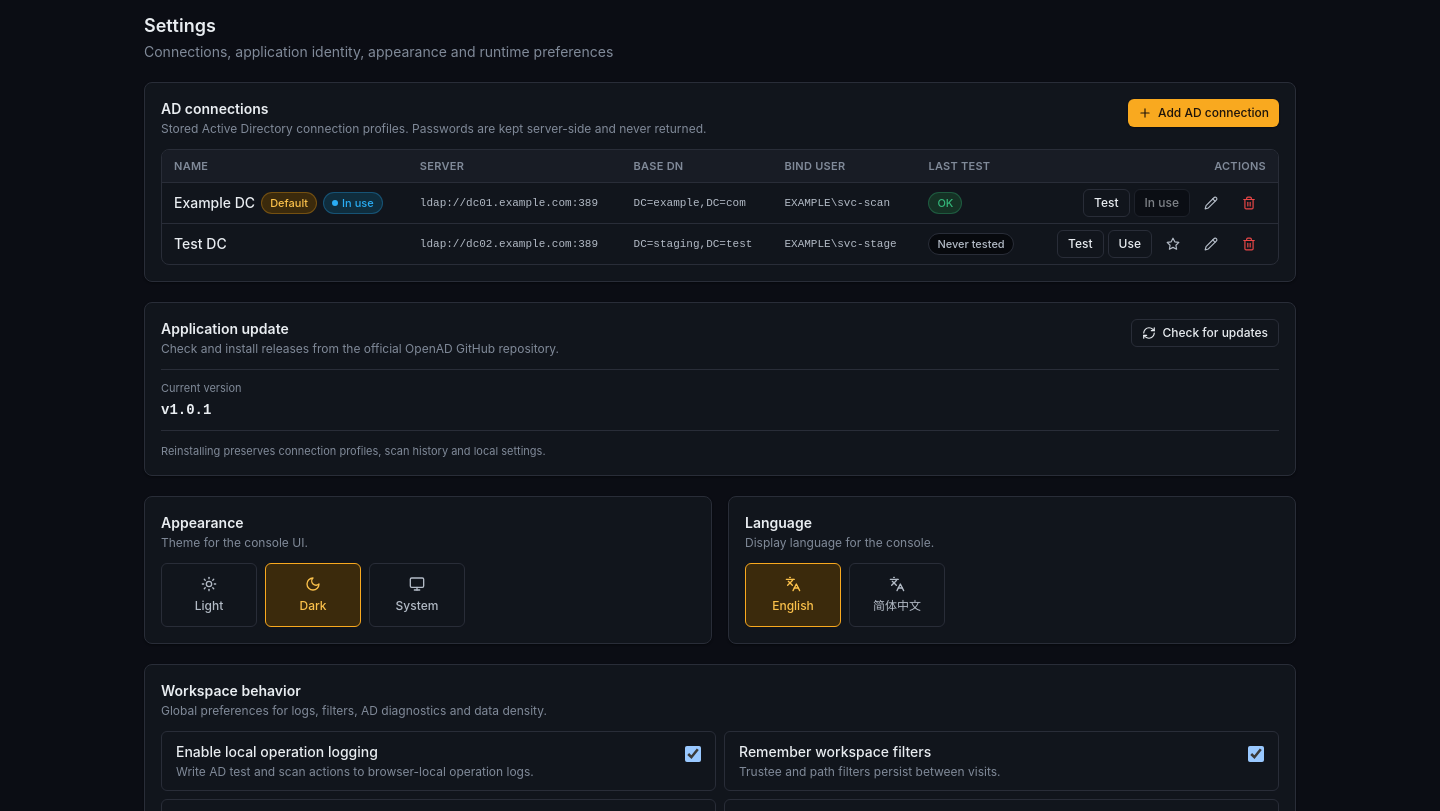
Test: SettingsPage › opens the release page when running outside the desktop host
The image size is (1440, 811).
Click the button "Check for updates" at (1205, 332), box 1131,318 -> 1279,346
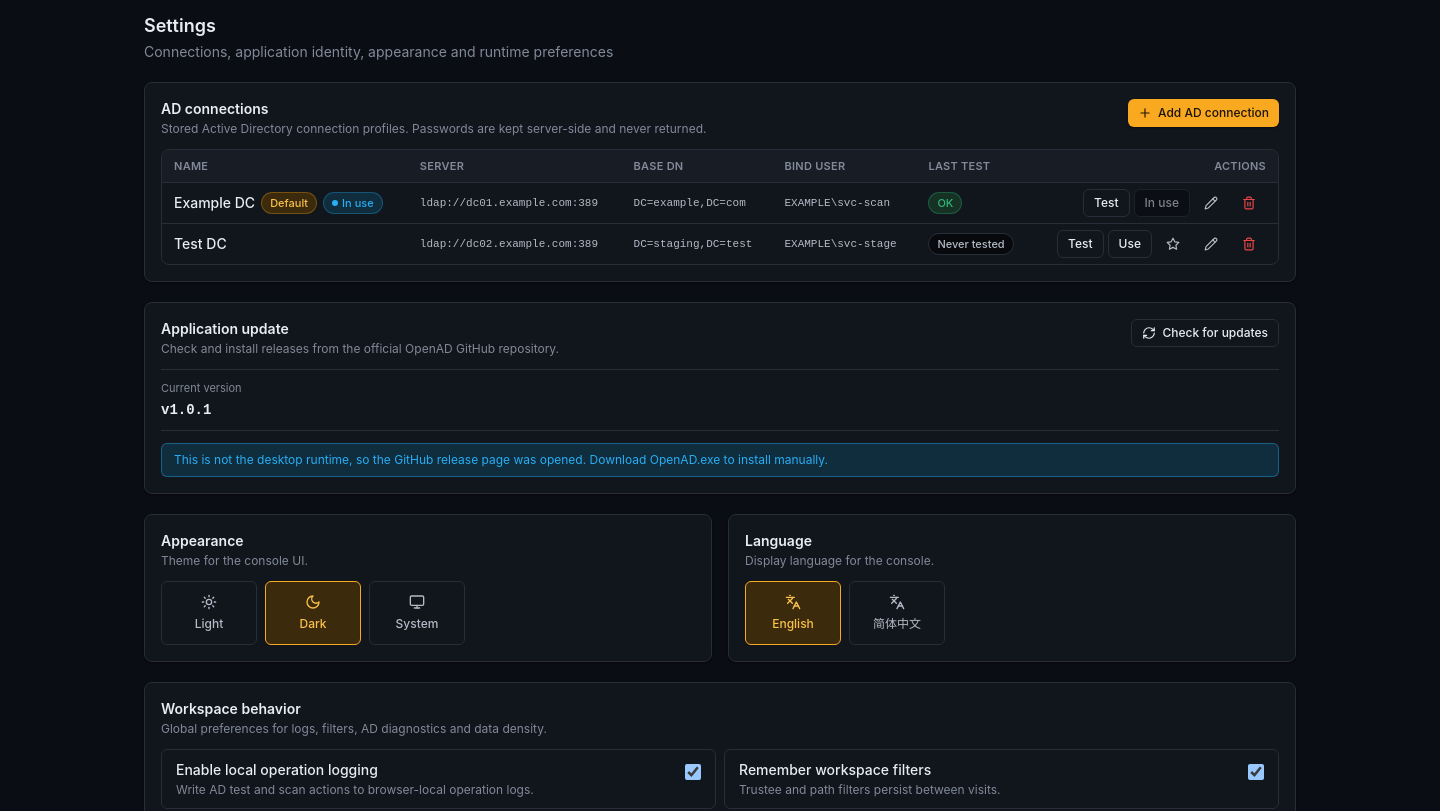
Check: the text "GitHub release page was opened" is shown, box 174,452 -> 828,466
